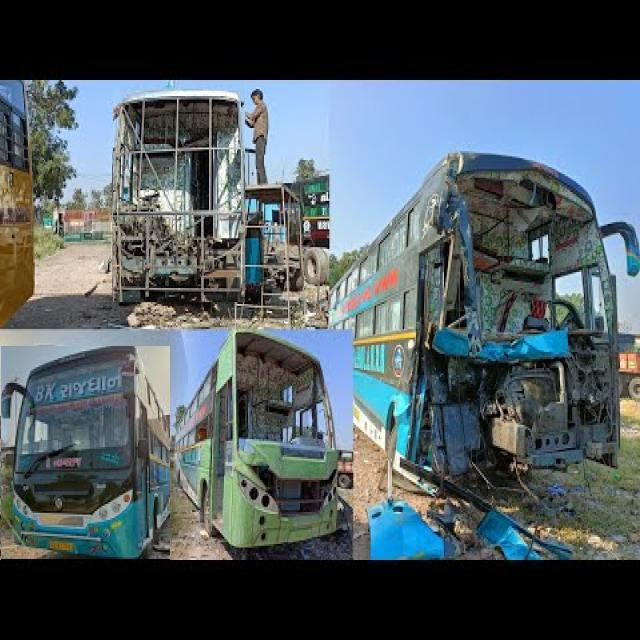accident: (332, 153, 621, 500), (177, 331, 355, 556), (113, 90, 244, 302)
bus: (1, 346, 169, 561)
